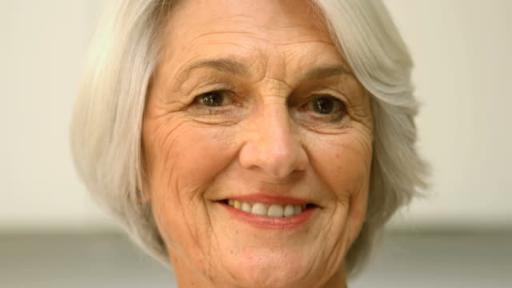left_eye: (297, 96, 353, 119)
left_lip_corner: (307, 200, 332, 214)
right_eye: (185, 91, 245, 112)
right_lip_corner: (205, 194, 242, 210)
